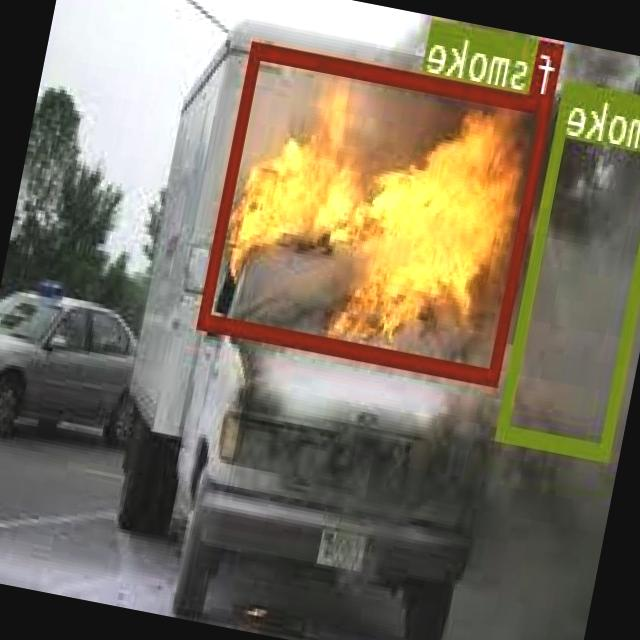fire: (199, 41, 554, 383)
smoke: (498, 80, 640, 457), (450, 22, 540, 80)
